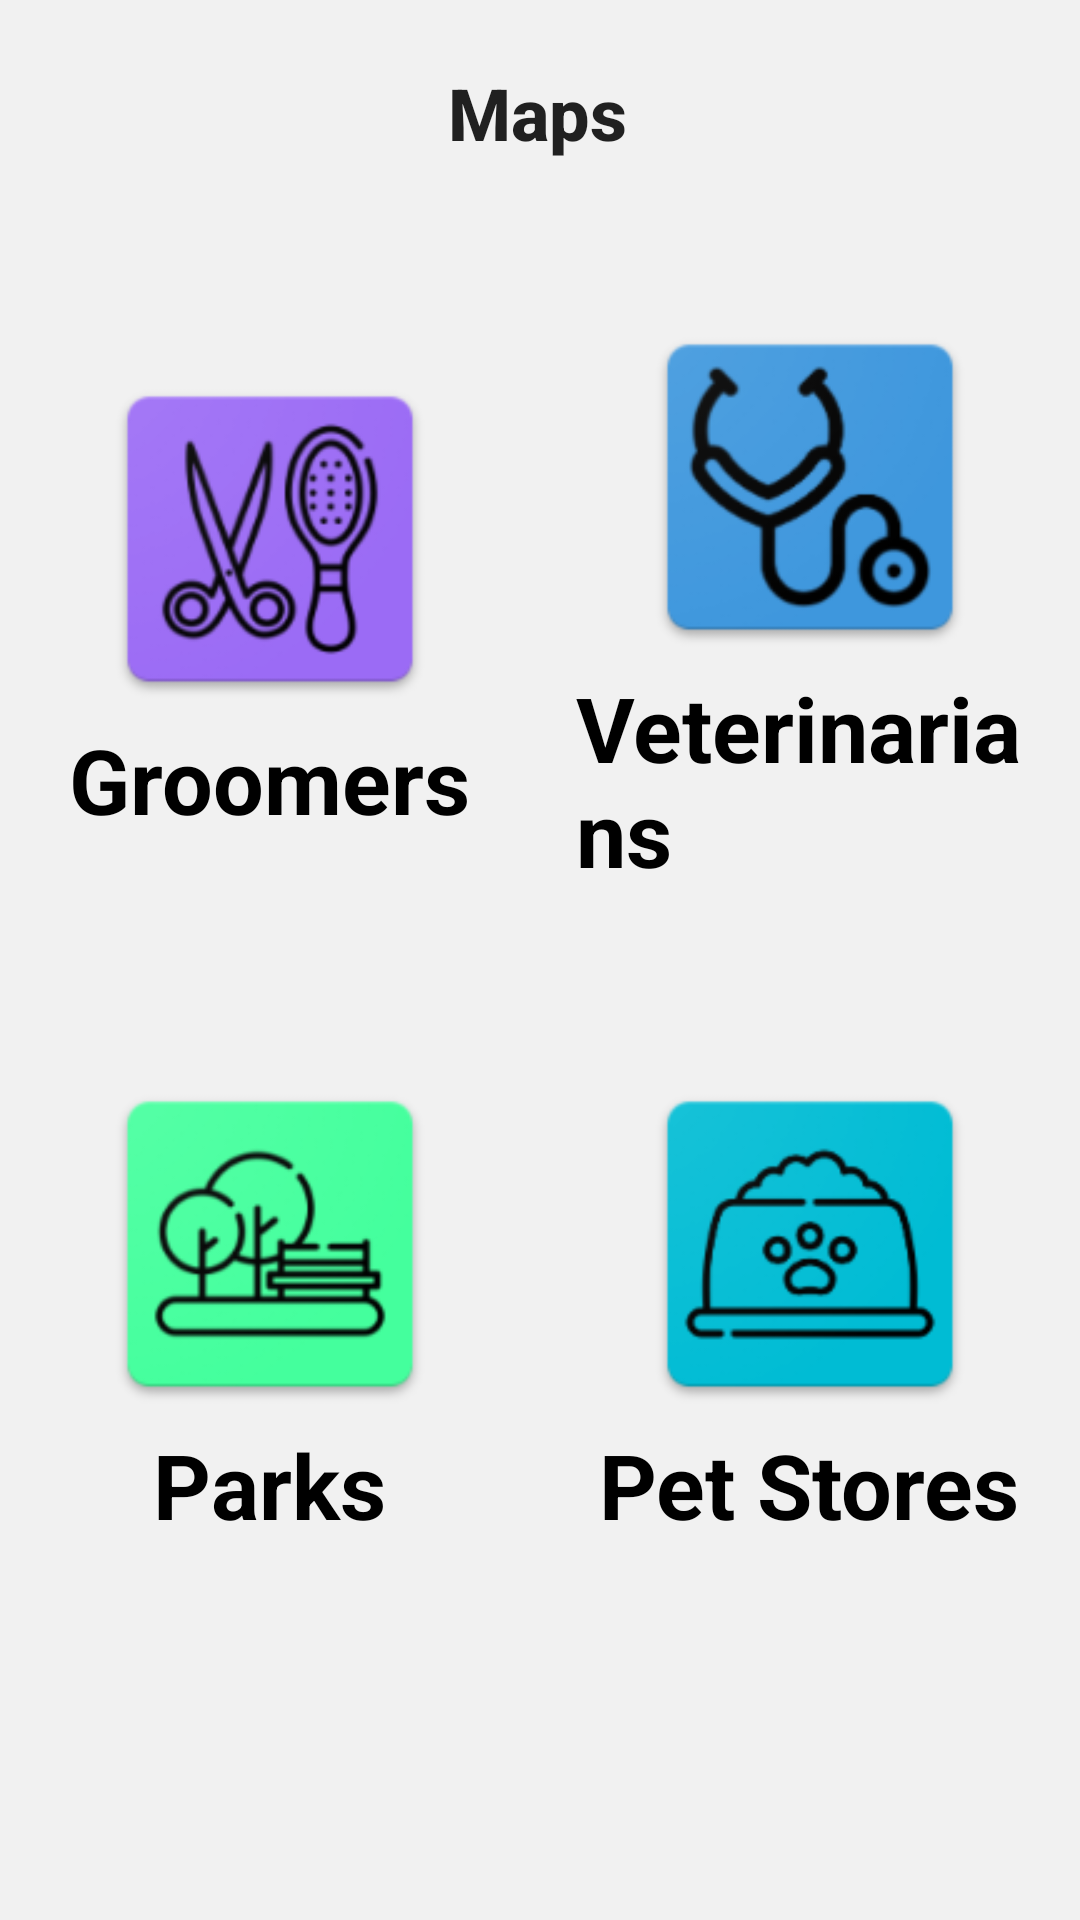

Icon click points for this 1080 x 1920 phone screenshot, format point (x, y):
food: point (810, 1247)
